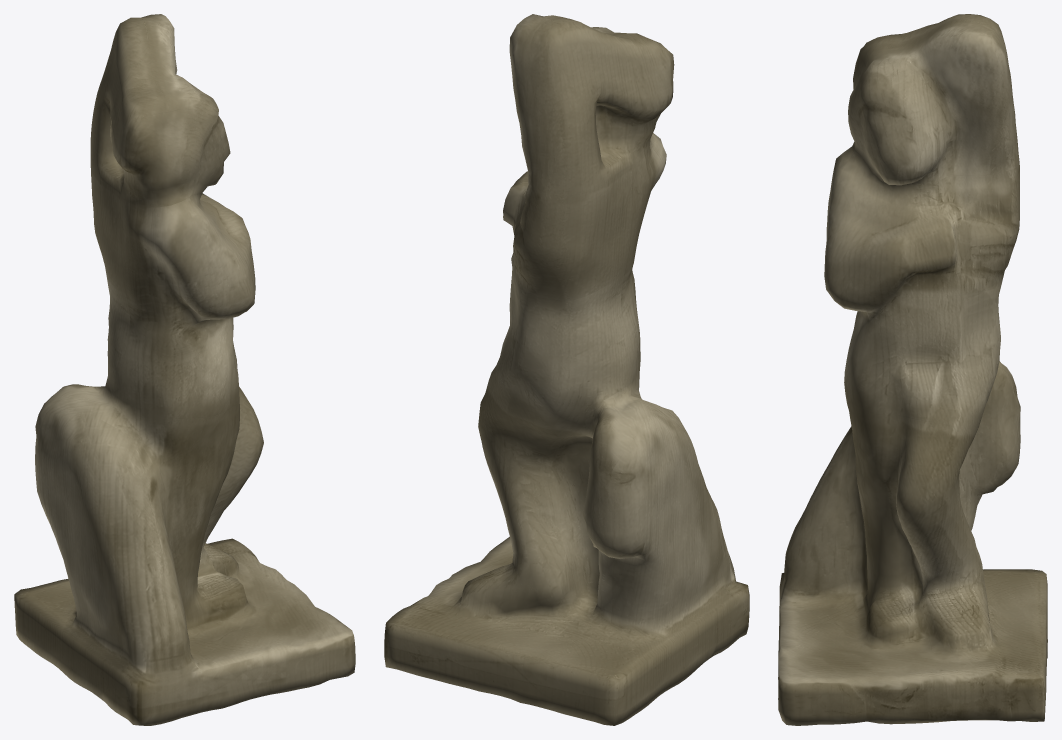
The model's file is figurine_3d78e01d.glb.
3 views of the same model, side by side, from view 1: azimuth 30°, elevation 25°; view 2: azimuth 150°, elevation 25°; view 3: azimuth 270°, elevation 25° (orthographic). The views are drawn at different scales.
Visible parts, largest first — view 1: texturedMesh; view 2: texturedMesh; view 3: texturedMesh.
Part boxes in pixels (bbox=[...]): texturedMesh: bbox=[14, 14, 355, 725]; texturedMesh: bbox=[384, 14, 749, 725]; texturedMesh: bbox=[778, 14, 1047, 725].
Bounding box in the file's own units: 29.67 × 78.2 × 29.62.
Materials: 1 (1 with a texture image).
